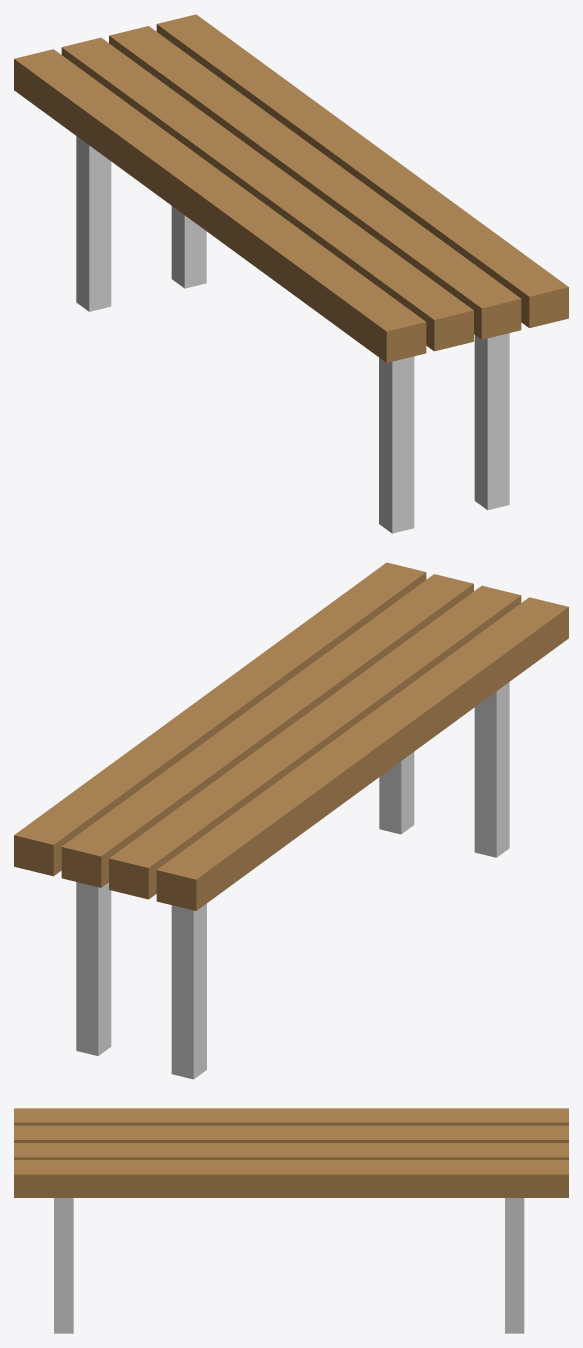
3 renders of one model, top to bottom at view 1: azimuth 30°, elevation 25°; view 2: azimuth 150°, elevation 25°; view 3: azimuth 270°, elevation 25°, orthographic. The views are drawn at different scales.
Parts seen in each view (by area): view 1: Cube.002, Cube.005, Cube.003, Cube.004, Cube.001; view 2: Cube.002, Cube.004, Cube.001, Cube.005, Cube.003; view 3: Cube.002, Cube.001, Cube.003.
Boxes of the visible parts, bbox=[...] form: Cube.002: bbox=[14, 14, 568, 362]; Cube.005: bbox=[379, 356, 414, 533]; Cube.003: bbox=[474, 333, 509, 510]; Cube.004: bbox=[76, 136, 111, 311]; Cube.001: bbox=[171, 206, 206, 288]; Cube.002: bbox=[14, 562, 568, 910]; Cube.004: bbox=[171, 903, 206, 1079]; Cube.001: bbox=[76, 882, 111, 1055]; Cube.005: bbox=[474, 682, 509, 857]; Cube.003: bbox=[379, 752, 414, 834]; Cube.002: bbox=[14, 1108, 568, 1197]; Cube.001: bbox=[505, 1198, 524, 1333]; Cube.003: bbox=[54, 1198, 73, 1333].
Bounding box in the file's own units: 121 × 145 × 427.
